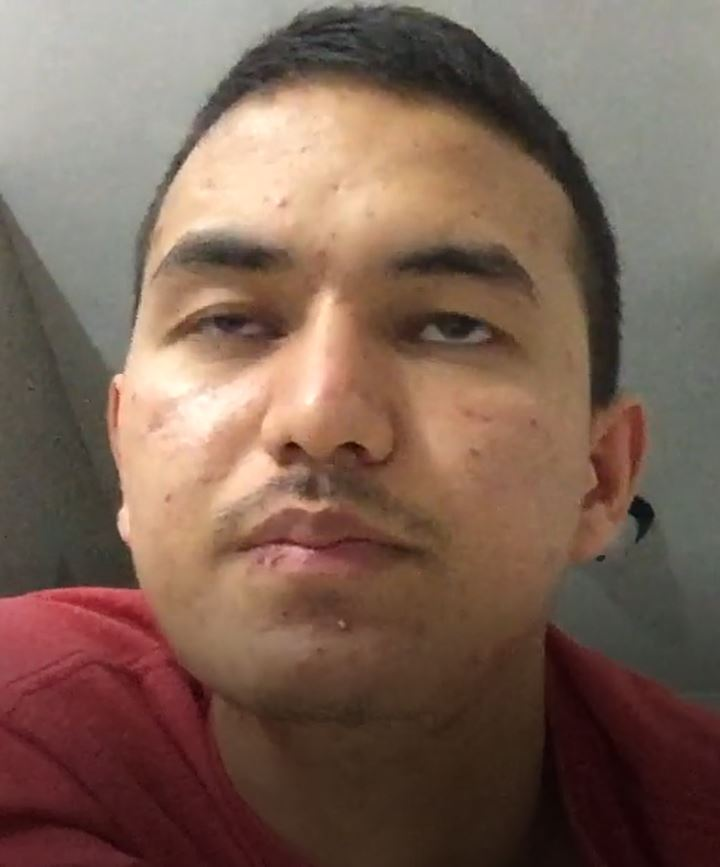Half Asleep: (145, 260, 573, 402)
